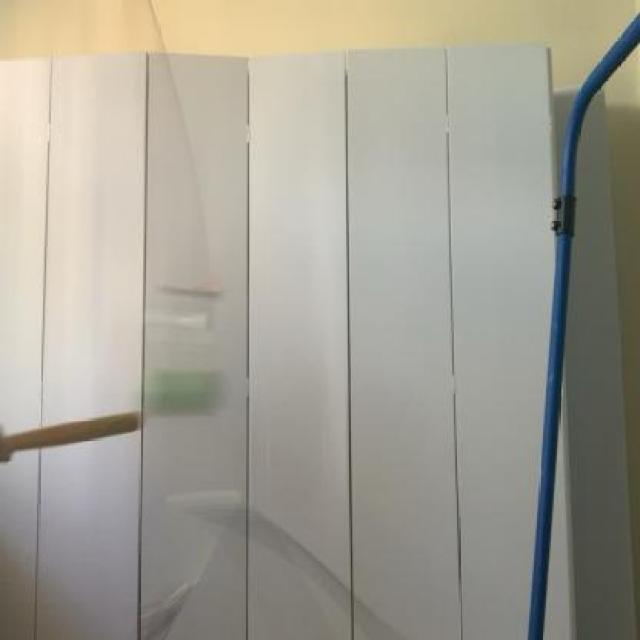baseball: (144, 350, 238, 424)
